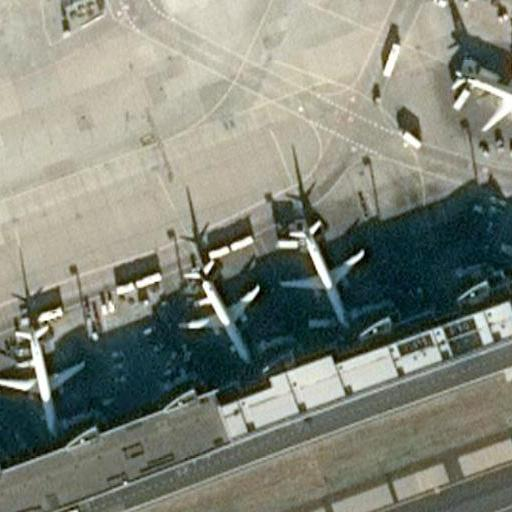Aircraft: (277, 210, 367, 329), (0, 316, 85, 435), (178, 254, 264, 367), (453, 41, 512, 131)
